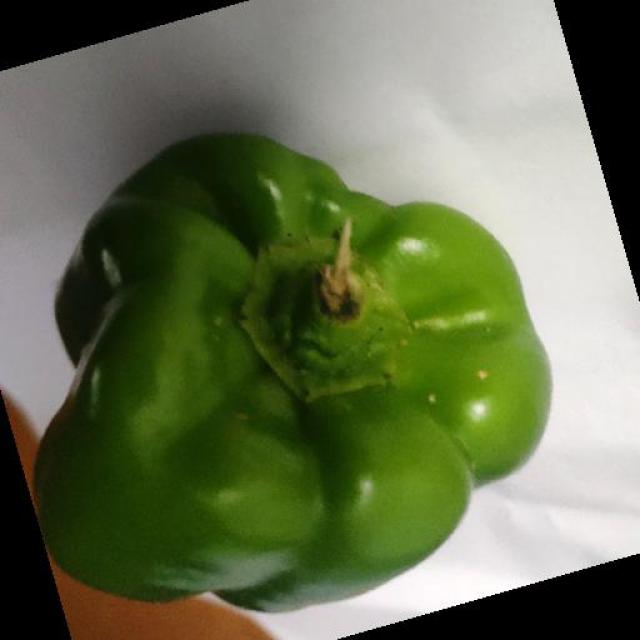Fresh_Capsicum: (149, 188, 504, 550)
